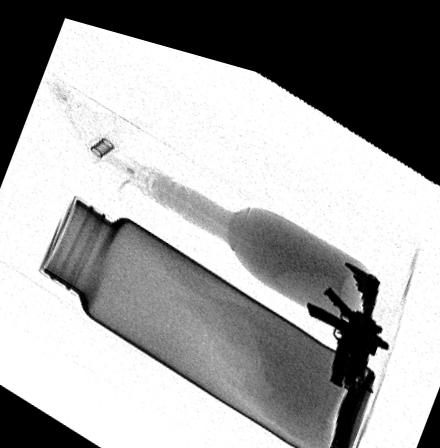Gun: (308, 242, 391, 446)
